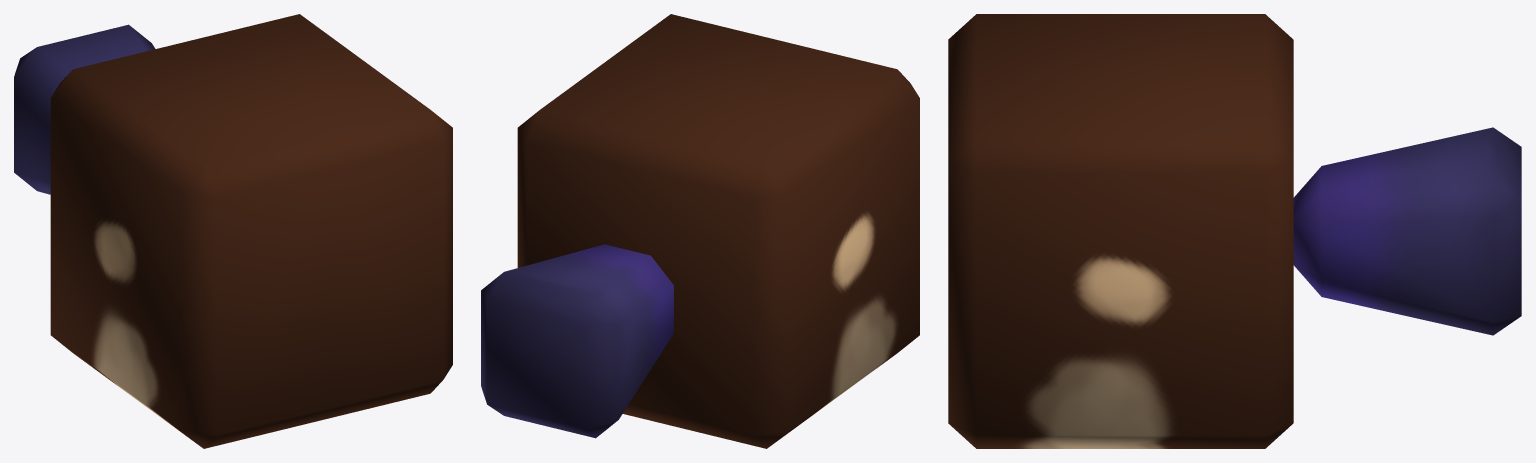
The model's file is player.obj.
3 views of the same model, side by side, from view 1: azimuth 30°, elevation 25°; view 2: azimuth 150°, elevation 25°; view 3: azimuth 270°, elevation 25° (orthographic). The views are drawn at different scales.
Visible parts, largest first — view 1: Cube.001_Cube.008; view 2: Cube.001_Cube.008; view 3: Cube.001_Cube.008.
Boxes of the visible parts, x1,y1,x2,y2 form: Cube.001_Cube.008: (14,14,452,448); Cube.001_Cube.008: (481,14,919,448); Cube.001_Cube.008: (948,14,1521,448).
Bounding box in the file's own units: 2 × 2 × 3.32.
1 material, 1 textured.
